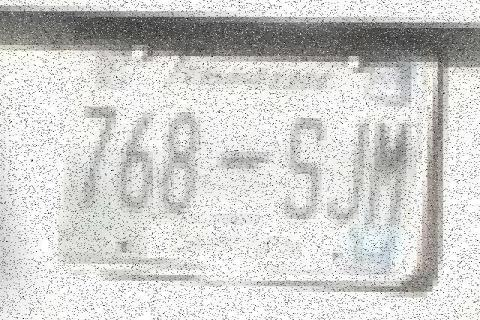LicensePlate: (48, 17, 431, 294)
